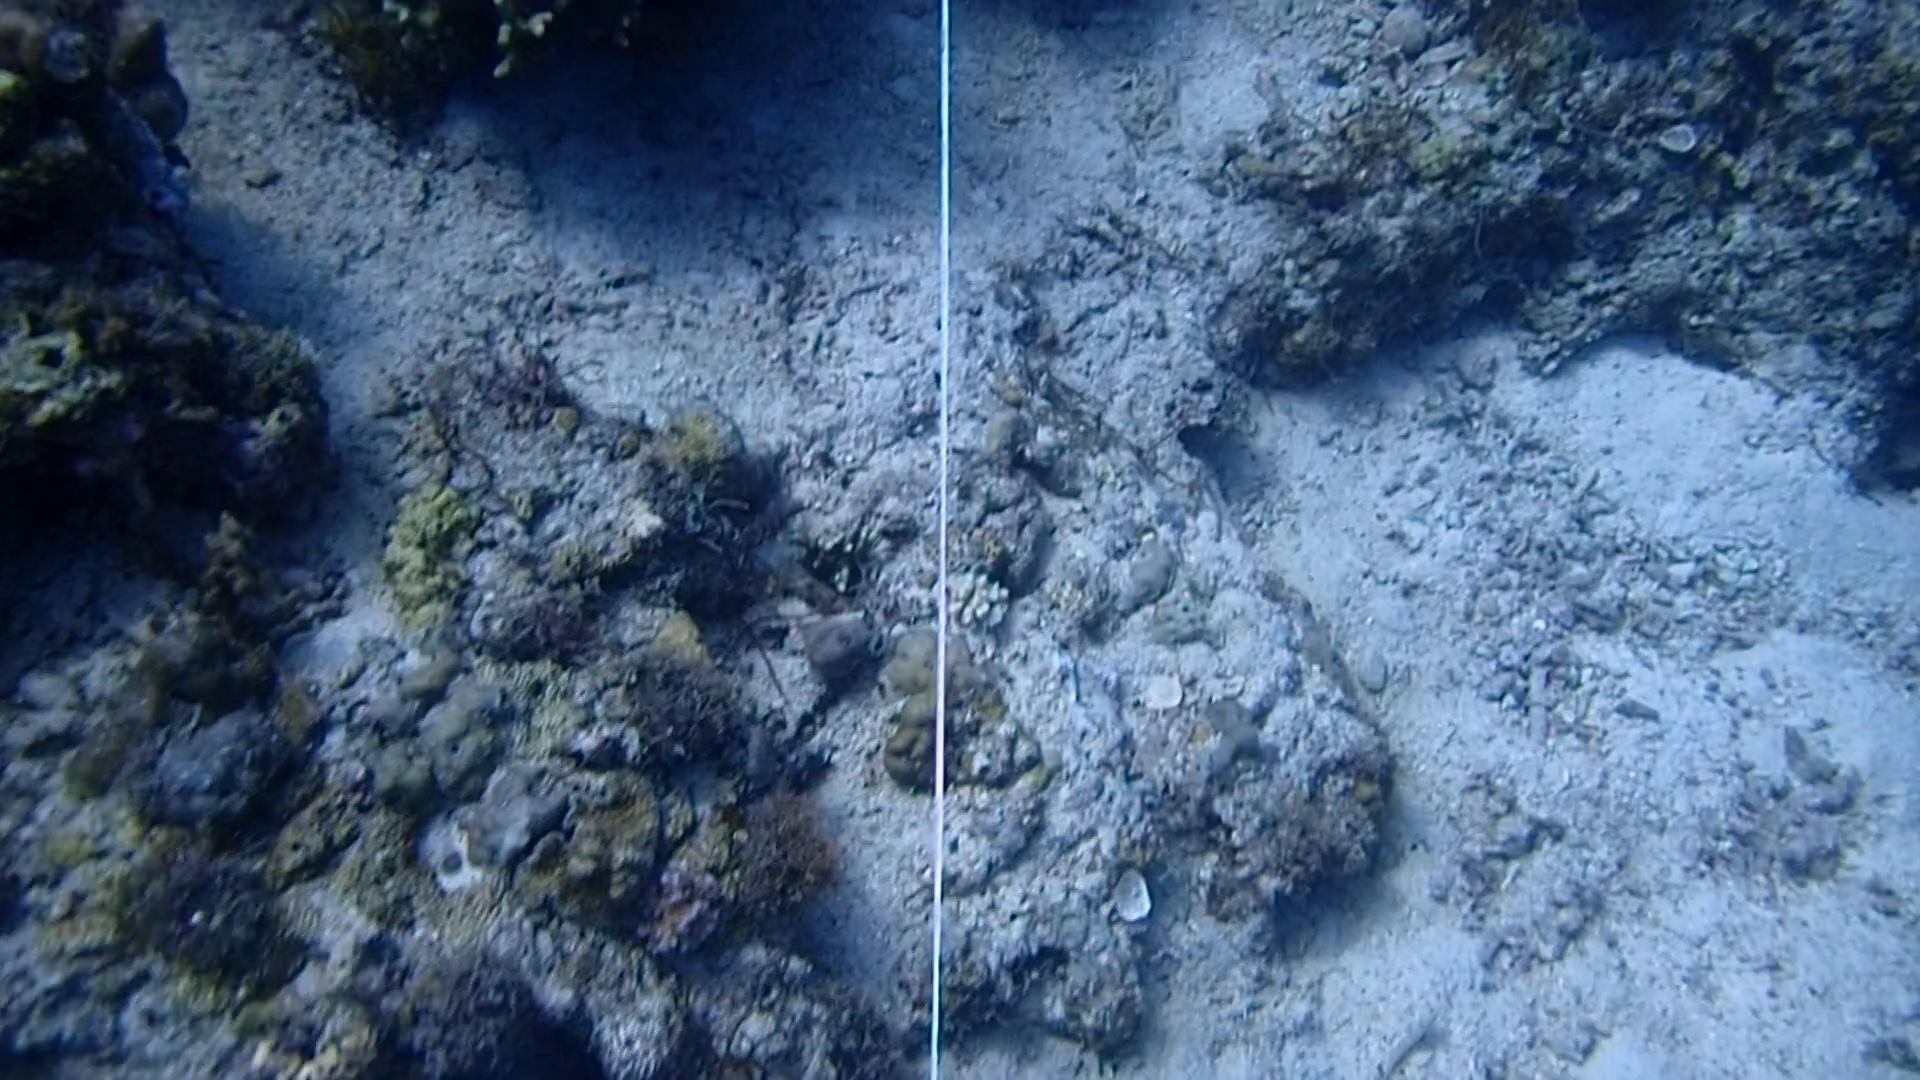Dark Fish: (1720, 20, 1787, 100)
